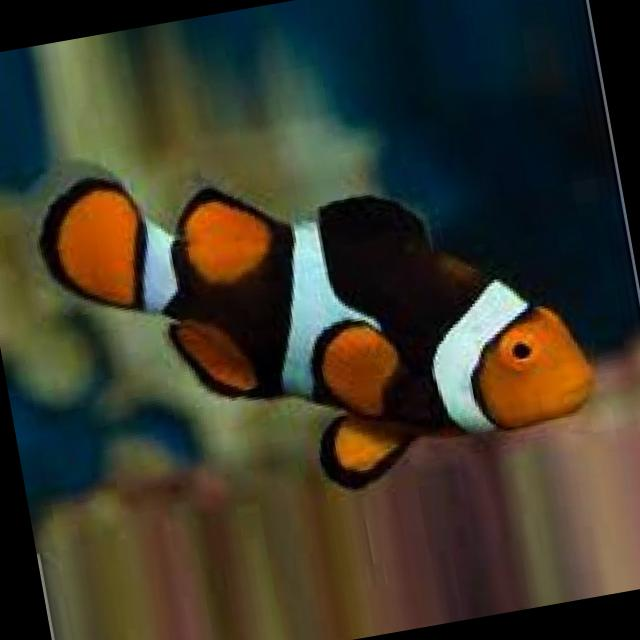ClownFish: (28, 90, 603, 534)
